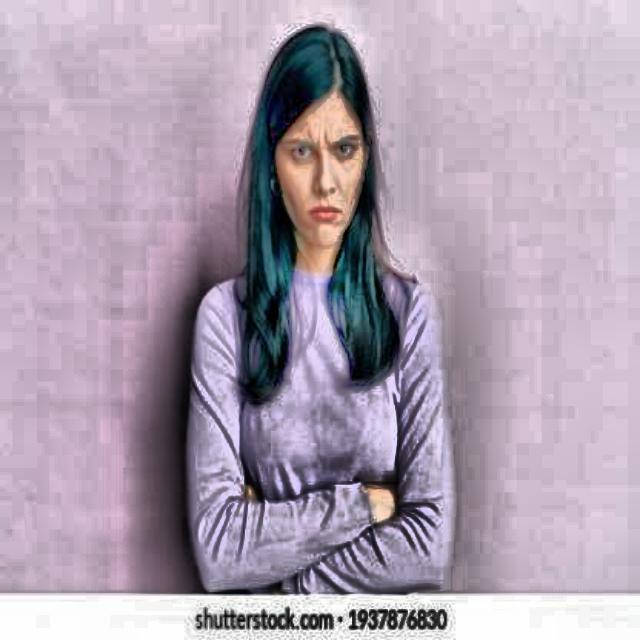angry: (240, 23, 421, 281)
